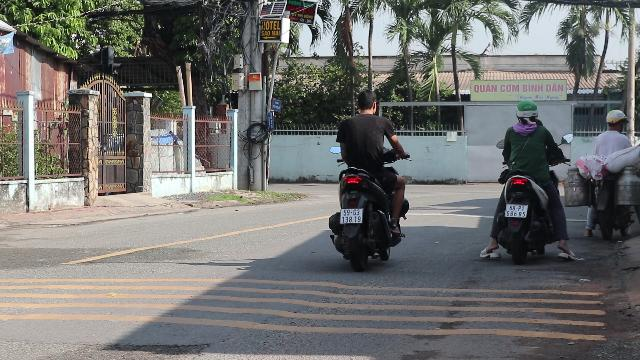helmet: (514, 98, 538, 122), (605, 109, 627, 130)
licenseplate: (341, 209, 362, 223), (505, 204, 527, 217)
motorcyclist: (324, 88, 412, 270), (486, 98, 570, 262), (586, 108, 640, 240)
nohelmet: (355, 89, 379, 113)
